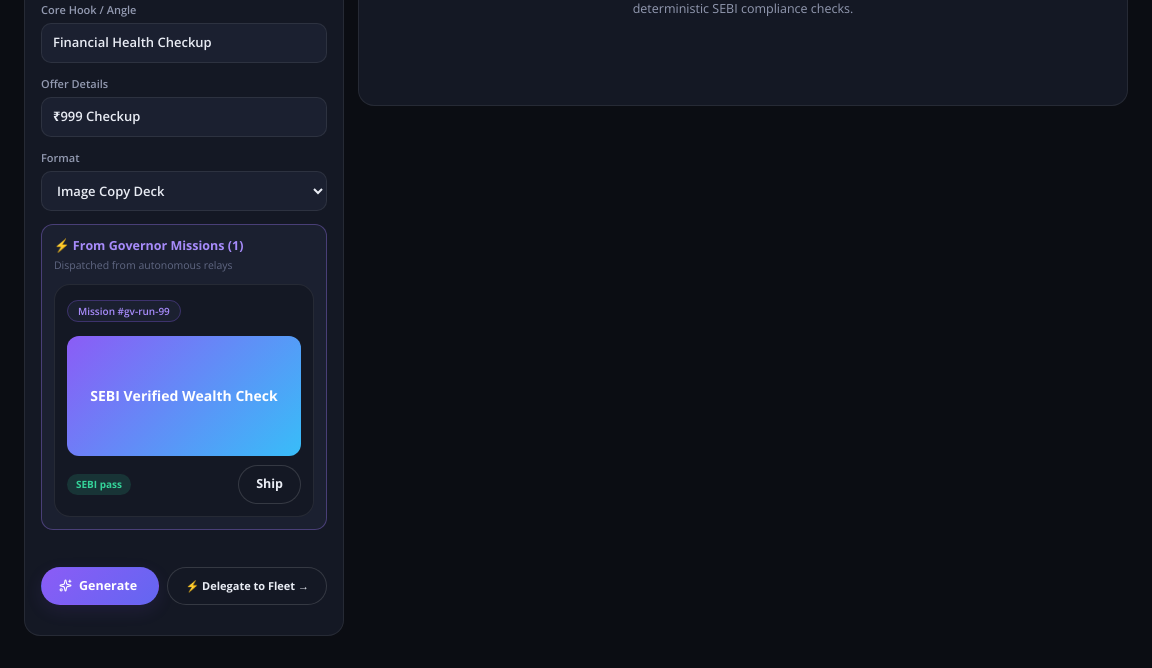
Governor Relay 4 Wires › Wire 3: Agents to Studio Creative Variants › renders "From Governor Missions" section in Studio and allows shipping
The width and height of the screenshot is (1152, 668).
(page scrolled)
Expected: the text "⚡ From Governor Missions (1)" is shown, [54,237,243,254]
Expected: the text "SEBI Verified Wealth Check" is shown, [67,336,301,456]
Click the button "Ship" at (270, 484), box [238,465,301,504]
(page scrolled)
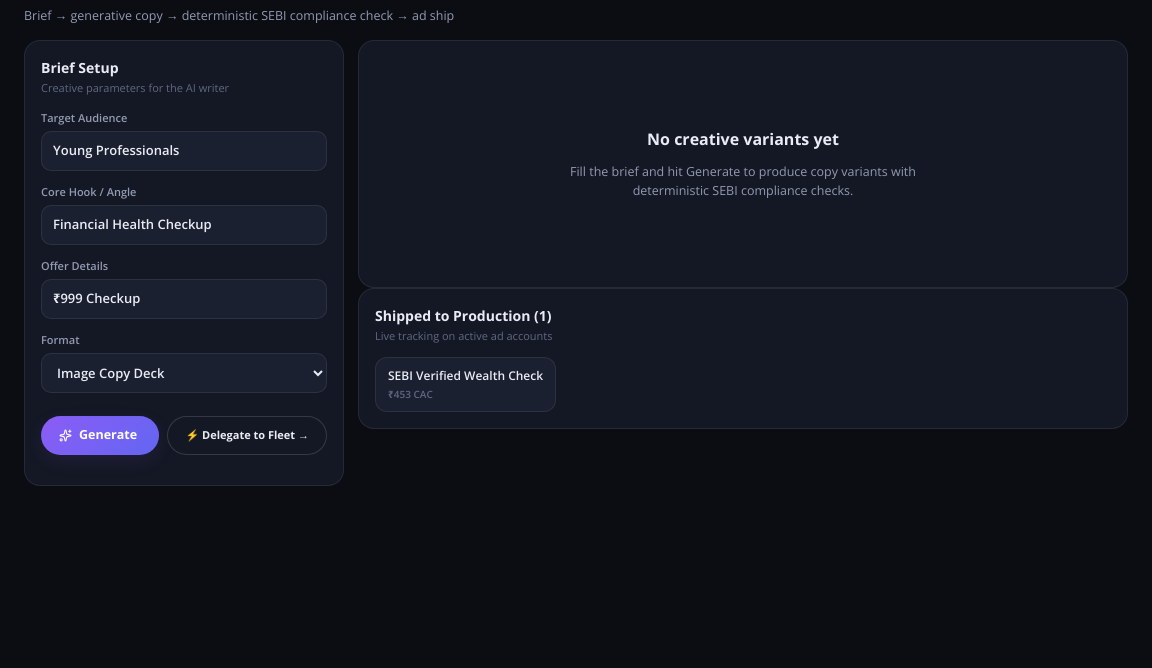
Expected: the heading "Shipped to Production (1)" is shown, [375,305,552,326]
